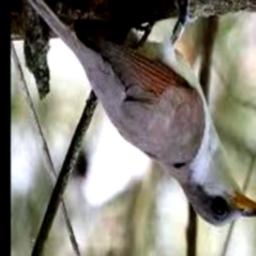Cuckoo: (12, 0, 256, 227)
